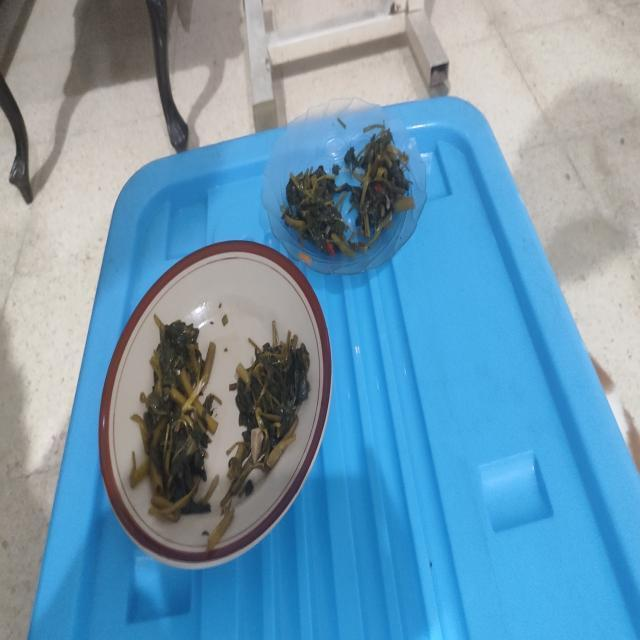tumis_kangkung: (131, 315, 222, 520), (221, 320, 311, 512), (343, 122, 415, 245), (282, 166, 348, 256)
